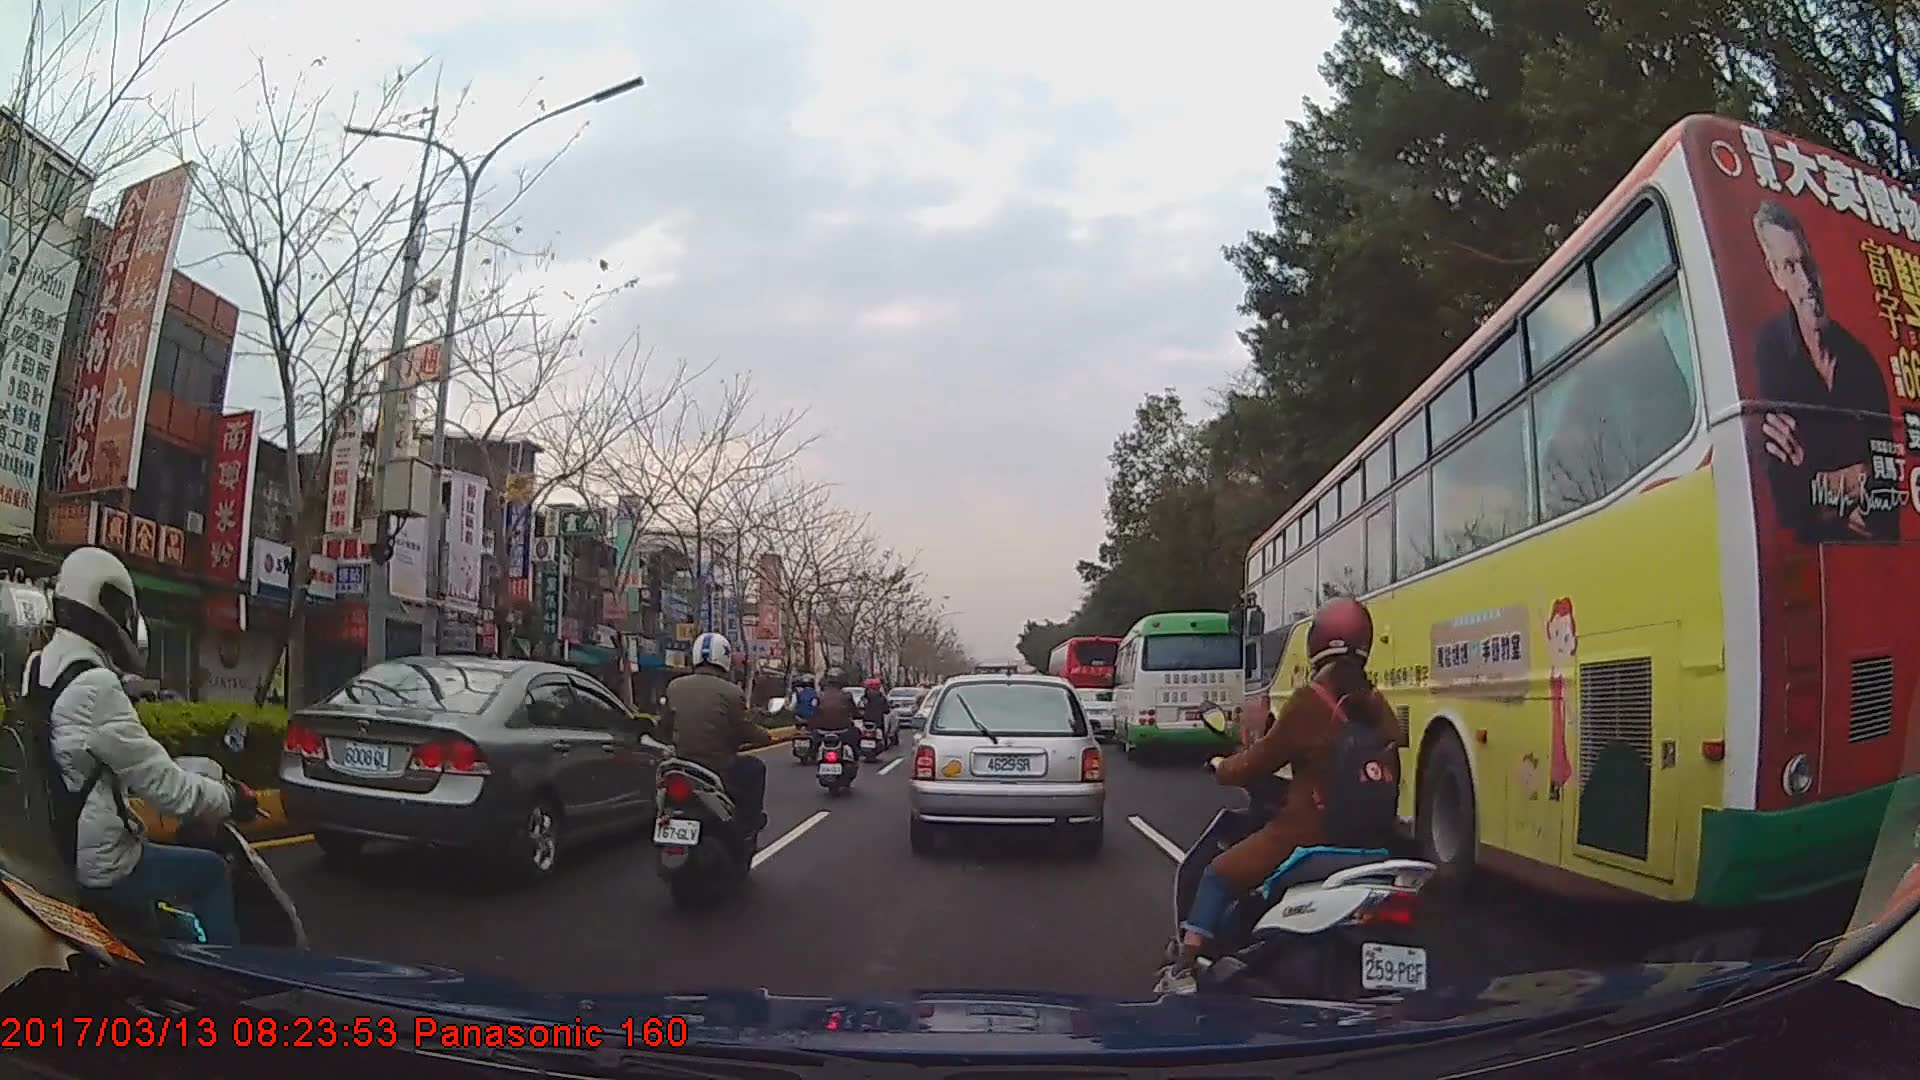rider: (1, 550, 313, 1007), (1147, 598, 1422, 1026), (648, 629, 786, 911), (812, 669, 858, 796), (855, 677, 890, 765), (790, 672, 828, 750)
vehicle: (1240, 111, 1920, 919), (275, 653, 676, 884), (911, 672, 1103, 850), (0, 571, 160, 749), (1109, 610, 1248, 762), (1045, 634, 1129, 733)
